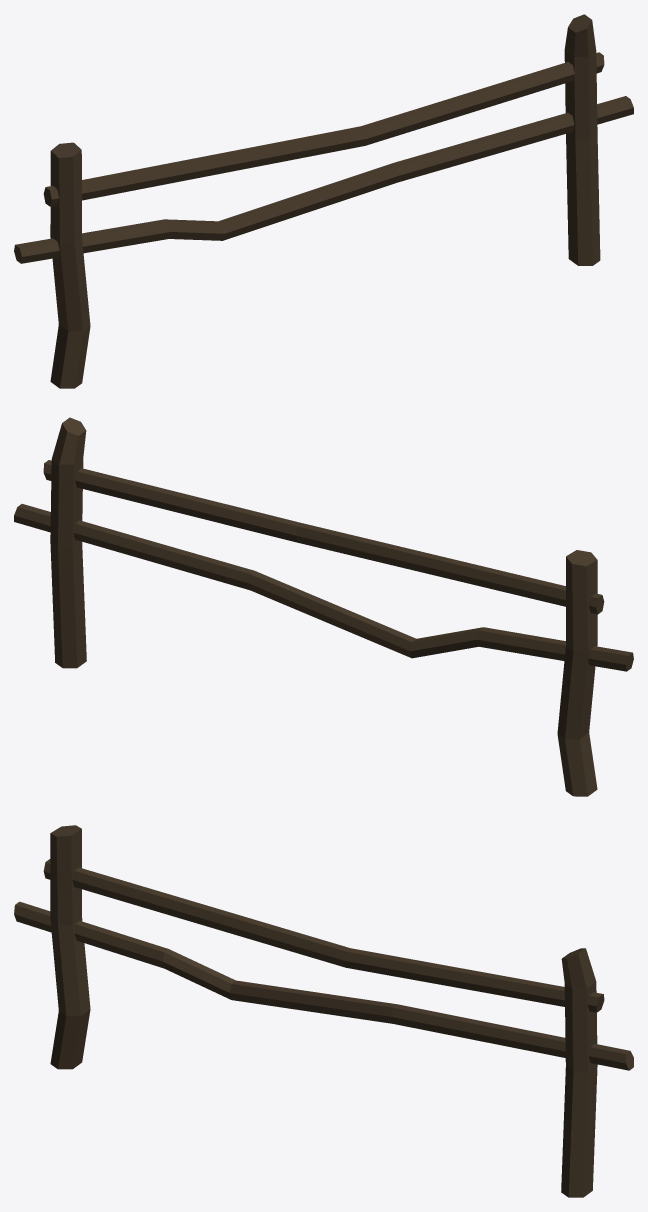
File: SM_Prop_Fence_05.glb
3 views of the same model, one above another, from view 1: azimuth 30°, elevation 25°; view 2: azimuth 150°, elevation 25°; view 3: azimuth 330°, elevation 25° (orthographic).
Parts seen in each view (by area): view 1: SM_Prop_Fence_05; view 2: SM_Prop_Fence_05; view 3: SM_Prop_Fence_05.
Boxes of the visible parts, x1,y1,x2,y2 form: SM_Prop_Fence_05: [14, 14, 633, 388]; SM_Prop_Fence_05: [14, 417, 633, 796]; SM_Prop_Fence_05: [14, 825, 633, 1197].
Size of the model in its own units: 0.0298 by 0.0112 by 0.00191.
